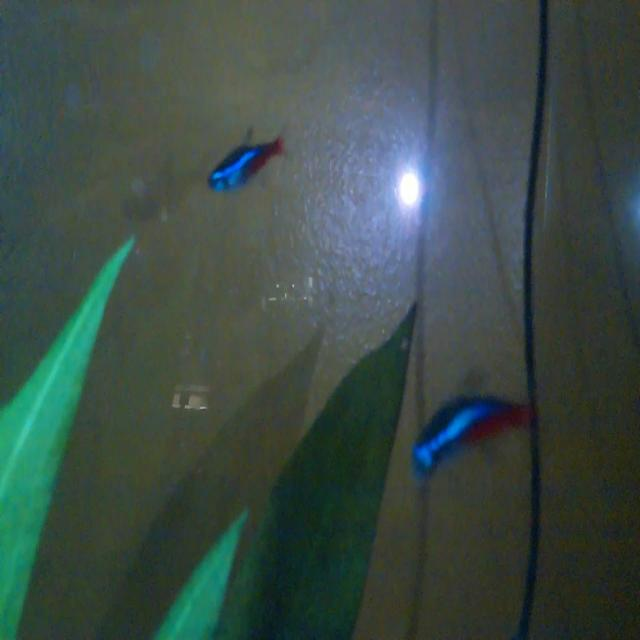fish: (413, 363, 533, 500), (194, 122, 290, 210)
